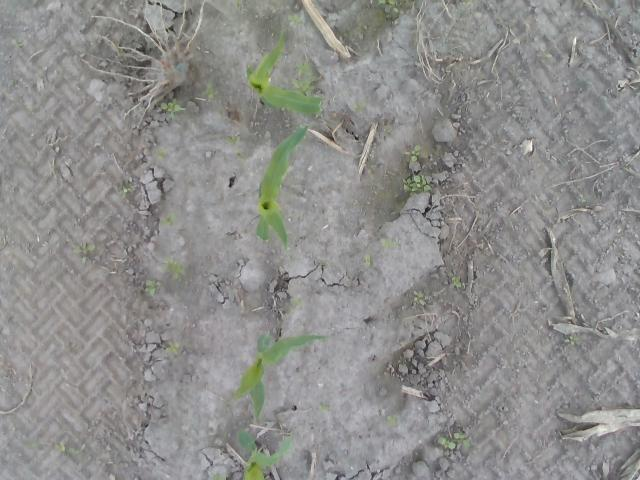Maize: (229, 332, 330, 424), (257, 125, 311, 268), (244, 25, 325, 116), (234, 429, 297, 480)
Weeds: (25, 441, 86, 459), (438, 432, 471, 452), (404, 174, 432, 194), (163, 257, 185, 282), (73, 243, 95, 264), (160, 98, 183, 118), (144, 278, 160, 299), (294, 80, 314, 96), (406, 144, 422, 163), (202, 82, 216, 102), (379, 1, 400, 14), (166, 343, 184, 357), (296, 61, 314, 75), (287, 14, 302, 28), (414, 290, 426, 307), (120, 184, 132, 200), (380, 238, 396, 250), (290, 299, 303, 313), (159, 215, 176, 225), (540, 45, 554, 57), (316, 402, 328, 416), (352, 99, 366, 111), (158, 148, 169, 162), (566, 334, 578, 346), (228, 133, 239, 146), (388, 415, 398, 429), (452, 276, 463, 288), (234, 0, 247, 9), (463, 0, 475, 9), (212, 473, 226, 480), (364, 255, 372, 266), (10, 38, 20, 46), (580, 195, 587, 204), (119, 44, 125, 54)
